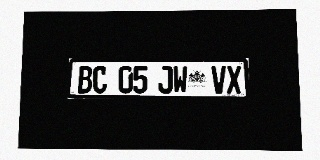0: (118, 66, 133, 93)
5: (133, 66, 148, 93)
B: (78, 66, 92, 93)
C: (92, 66, 107, 93)
J: (158, 66, 172, 93)
V: (211, 66, 226, 93)
W: (173, 66, 188, 93)
X: (226, 66, 242, 93)
